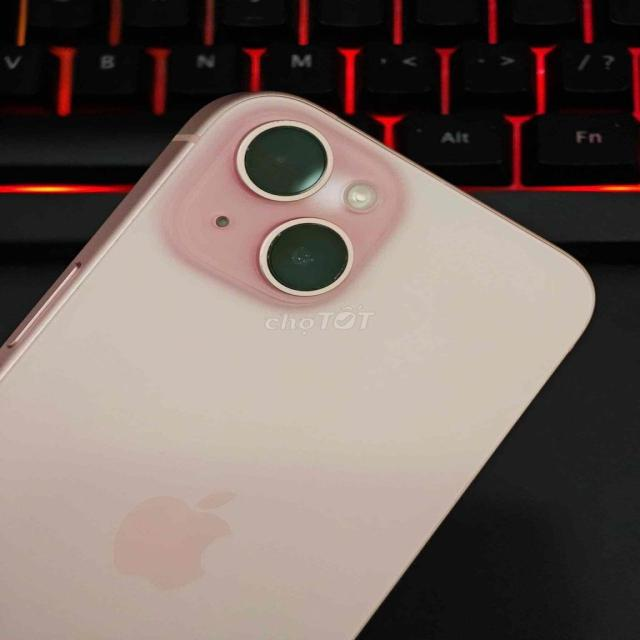scratch: (260, 232, 282, 257), (331, 252, 350, 280), (266, 116, 302, 122)
